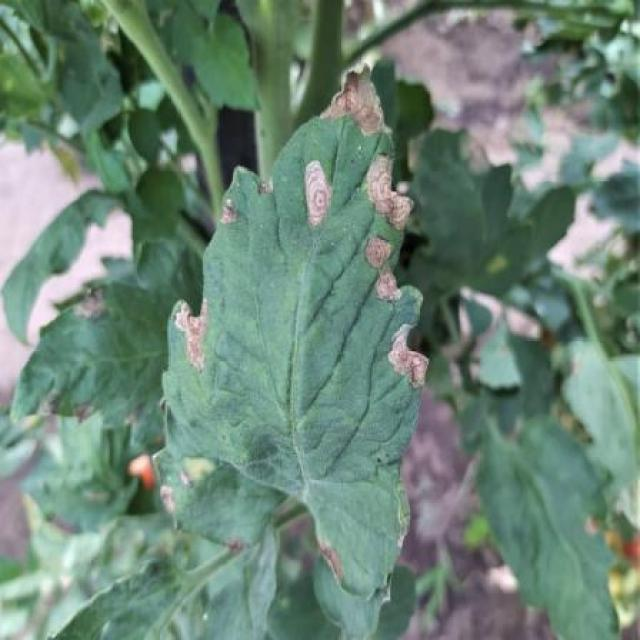Early Blight: (157, 60, 432, 607)
